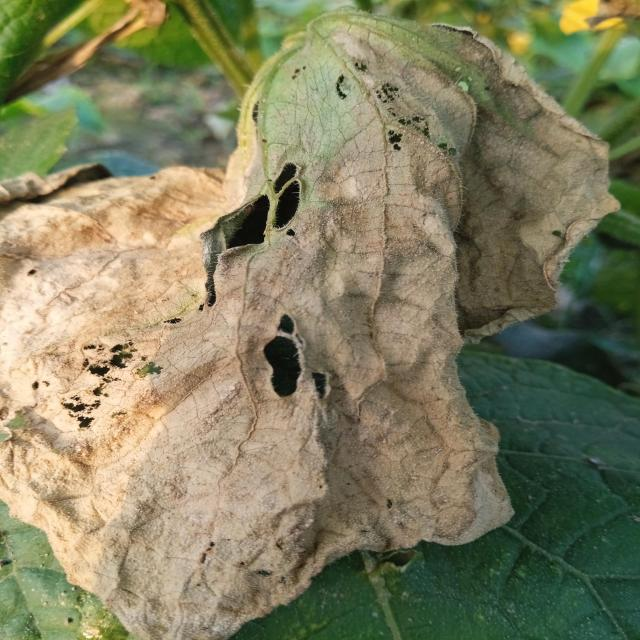cucumber_anthracnose: (14, 25, 612, 599)
